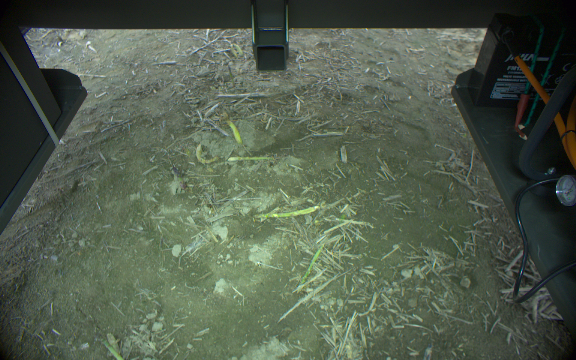aspa: (296, 242, 328, 289), (251, 204, 322, 221), (226, 153, 278, 167), (191, 143, 219, 166), (225, 117, 244, 146), (98, 338, 121, 360)
